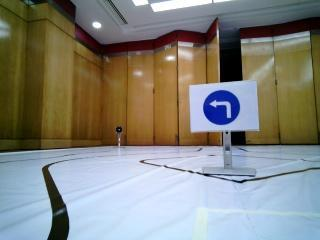left: (194, 86, 256, 127)
